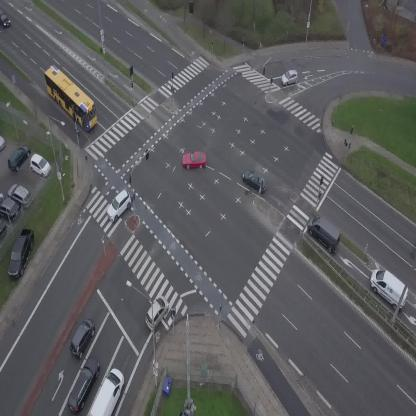bus: (35, 62, 106, 133)
car: (63, 354, 105, 416), (65, 317, 99, 360), (140, 293, 174, 334), (100, 188, 137, 224), (239, 167, 271, 196), (182, 151, 206, 169), (280, 69, 300, 87), (0, 10, 10, 28)
lorry: (301, 211, 349, 257), (88, 366, 130, 416)
